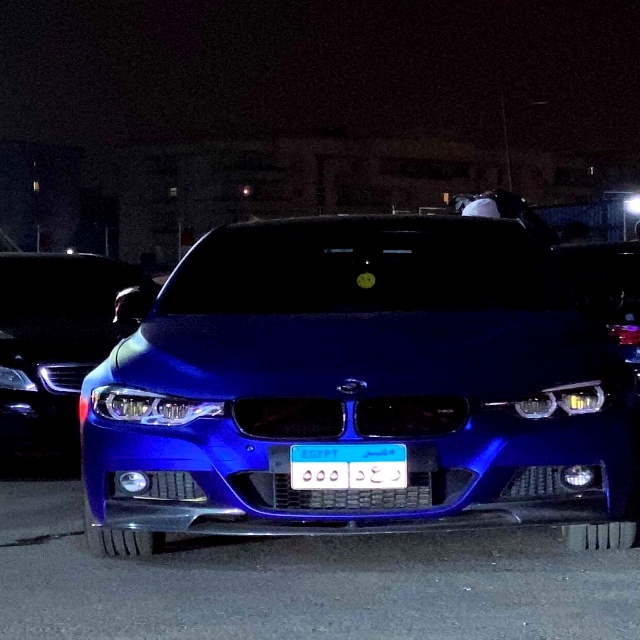License Plate: (290, 443, 410, 492)
